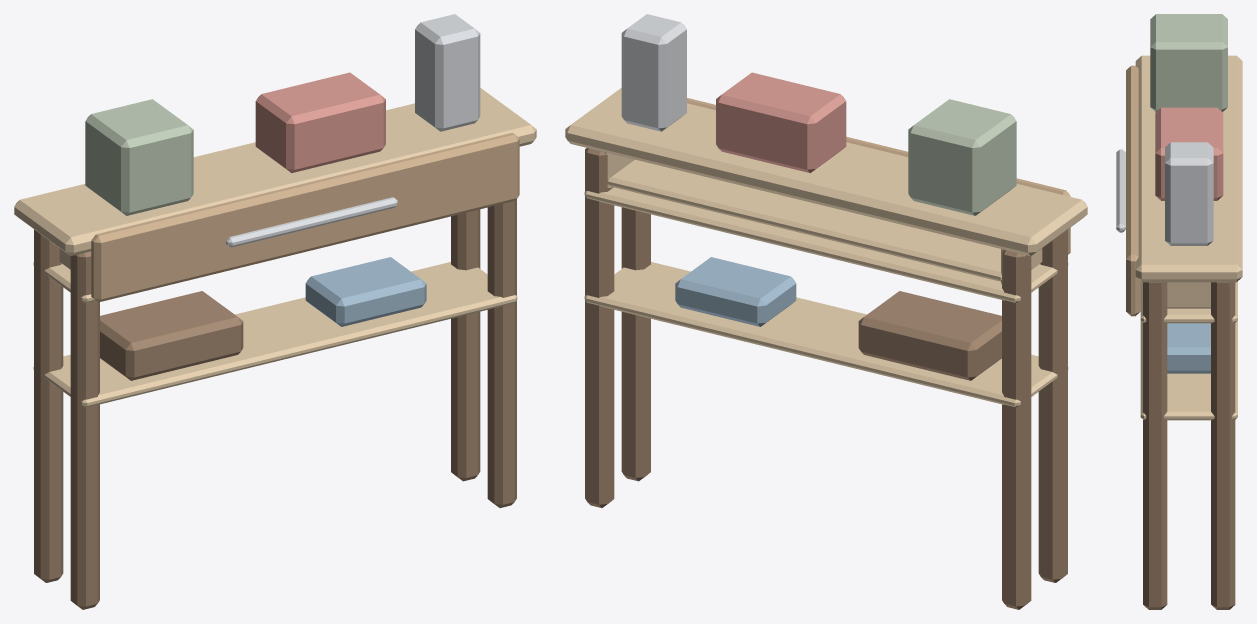
The model's file is SlimConsole_20cm.glb.
The picture shows the model from 3 angles, left to right: view 1: azimuth 30°, elevation 25°; view 2: azimuth 150°, elevation 25°; view 3: azimuth 270°, elevation 25°; orthographic projection. The views are drawn at different scales.
Parts seen in each view (by area): view 1: SlimConsole_20cm_Body, SlimConsole_20cm_Drawer; view 2: SlimConsole_20cm_Body, SlimConsole_20cm_Drawer; view 3: SlimConsole_20cm_Body, SlimConsole_20cm_Drawer.
Part boxes in pixels (x1=…): SlimConsole_20cm_Body: x1=14, y1=14, x2=536, y2=609; SlimConsole_20cm_Drawer: x1=59, y1=133, x2=519, y2=302; SlimConsole_20cm_Body: x1=565, y1=14, x2=1087, y2=609; SlimConsole_20cm_Drawer: x1=604, y1=98, x2=1070, y2=284; SlimConsole_20cm_Body: x1=1135, y1=14, x2=1242, y2=609; SlimConsole_20cm_Drawer: x1=1116, y1=65, x2=1210, y2=316.
Bounding box in the file's own units: 1.04 × 1 × 0.26.
